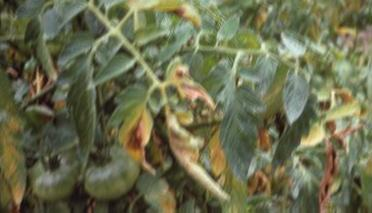Tomato Early blight leaf: (163, 108, 233, 200), (118, 83, 157, 173), (0, 113, 30, 213), (166, 62, 224, 109), (25, 12, 60, 84), (130, 0, 209, 29)
Tomato leaf: (62, 60, 100, 163), (220, 85, 259, 180), (285, 70, 308, 126)
